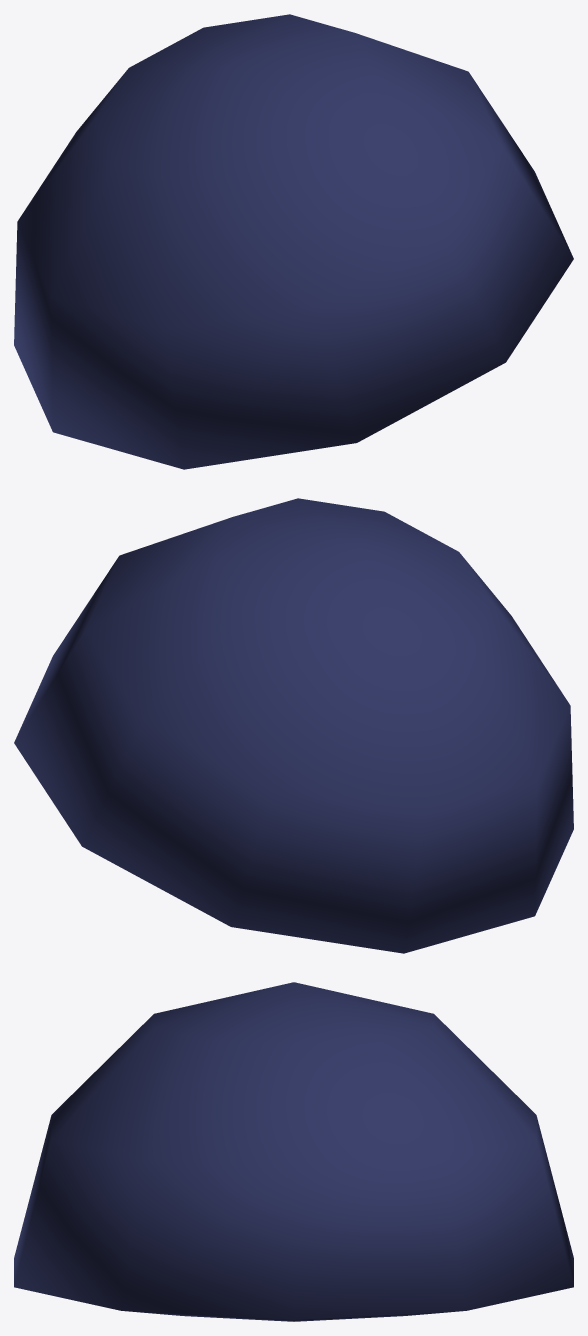
The model's file is TherapyAttachmentHead04.fbx.
3 renders of one model, top to bottom at view 1: azimuth 30°, elevation 25°; view 2: azimuth 150°, elevation 25°; view 3: azimuth 270°, elevation 25°, orthographic.
Parts seen in each view (by area): view 1: pSphere2; view 2: pSphere2; view 3: pSphere2.
Part boxes in pixels (left/top/right/bottom): pSphere2: left=14, top=14, right=573, bottom=469; pSphere2: left=14, top=498, right=573, bottom=953; pSphere2: left=14, top=982, right=573, bottom=1321.
Size of the model in its own units: 155 by 99.73 by 153.
